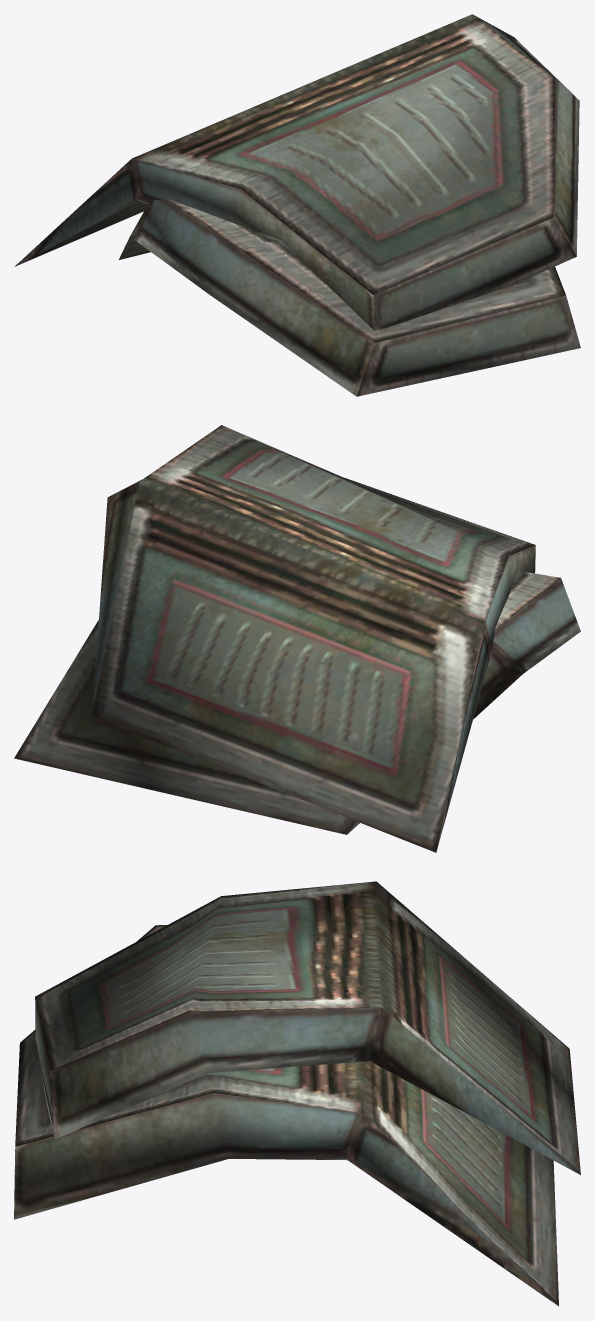
Rendered from ShoulderPads4__MOB.glb.
3 views of the same model, one above another, from view 1: azimuth 30°, elevation 25°; view 2: azimuth 150°, elevation 25°; view 3: azimuth 270°, elevation 25° (orthographic). The views are drawn at different scales.
Visible parts, largest first — view 1: ShoulderPads4; view 2: ShoulderPads4; view 3: ShoulderPads4.
Part boxes in pixels (x1,y1,x2,y2): ShoulderPads4: (14, 14, 580, 396); ShoulderPads4: (14, 425, 580, 852); ShoulderPads4: (14, 881, 580, 1306).
Bounding box in the file's own units: 10.24 × 5.34 × 10.11.
Materials: 1 (1 with a texture image).
